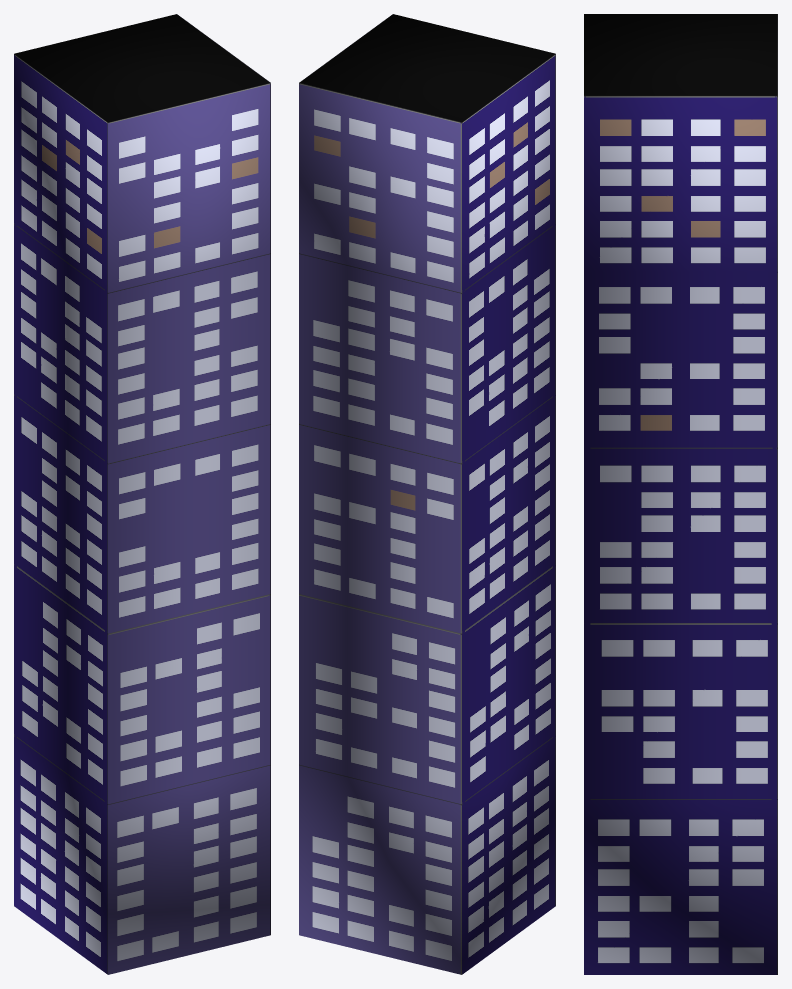
File: Building1.fbx
3 renders of one model, left to right at view 1: azimuth 30°, elevation 25°; view 2: azimuth 150°, elevation 25°; view 3: azimuth 270°, elevation 25°, orthographic. The views are drawn at different scales.
Parts seen in each view (by area): view 1: Cube; view 2: Cube; view 3: Cube.
Part boxes in pixels (left/top/right/bottom): Cube: left=14, top=14, right=270, bottom=974; Cube: left=299, top=14, right=555, bottom=974; Cube: left=584, top=14, right=777, bottom=974.
Size of the model in its own units: 2 by 10 by 2.
1 material, 1 textured.
